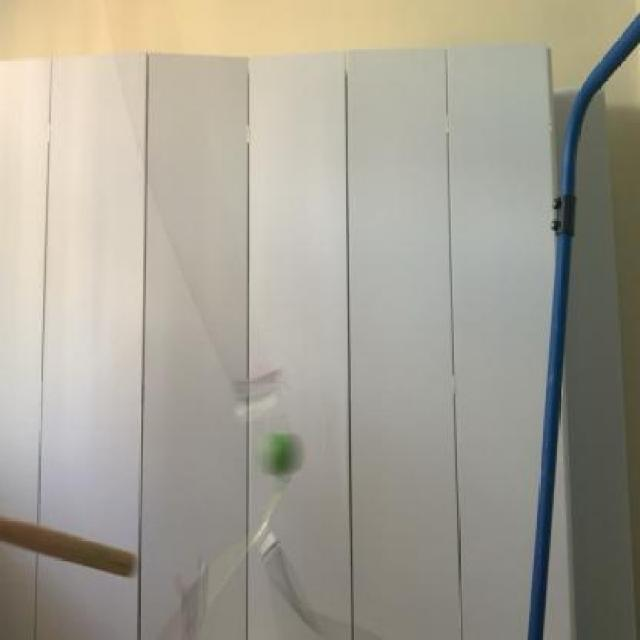baseball: (250, 423, 304, 479)
